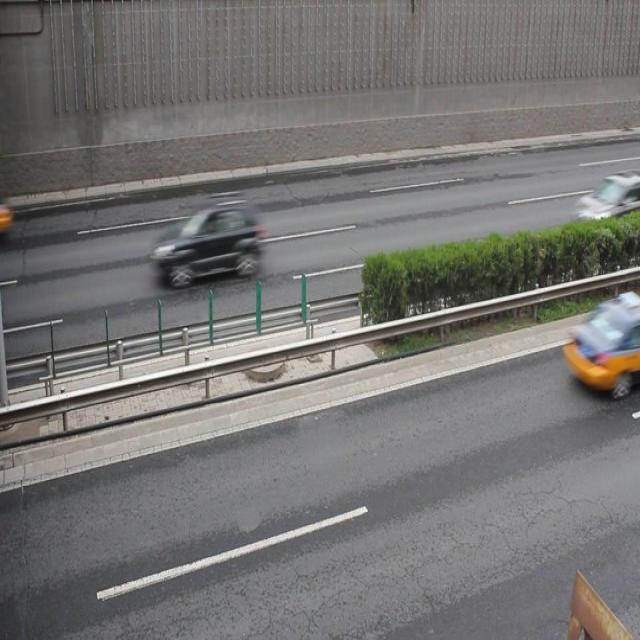car: (154, 201, 262, 288), (558, 291, 640, 400), (571, 171, 640, 249)
